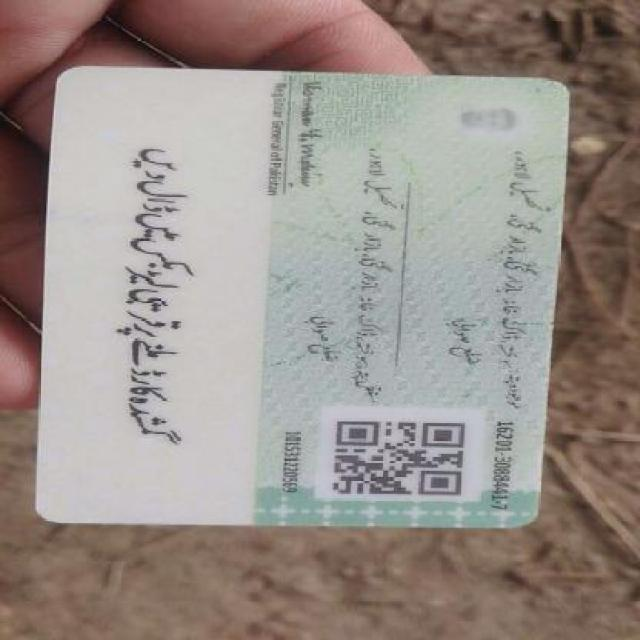Back: (32, 62, 550, 523)
